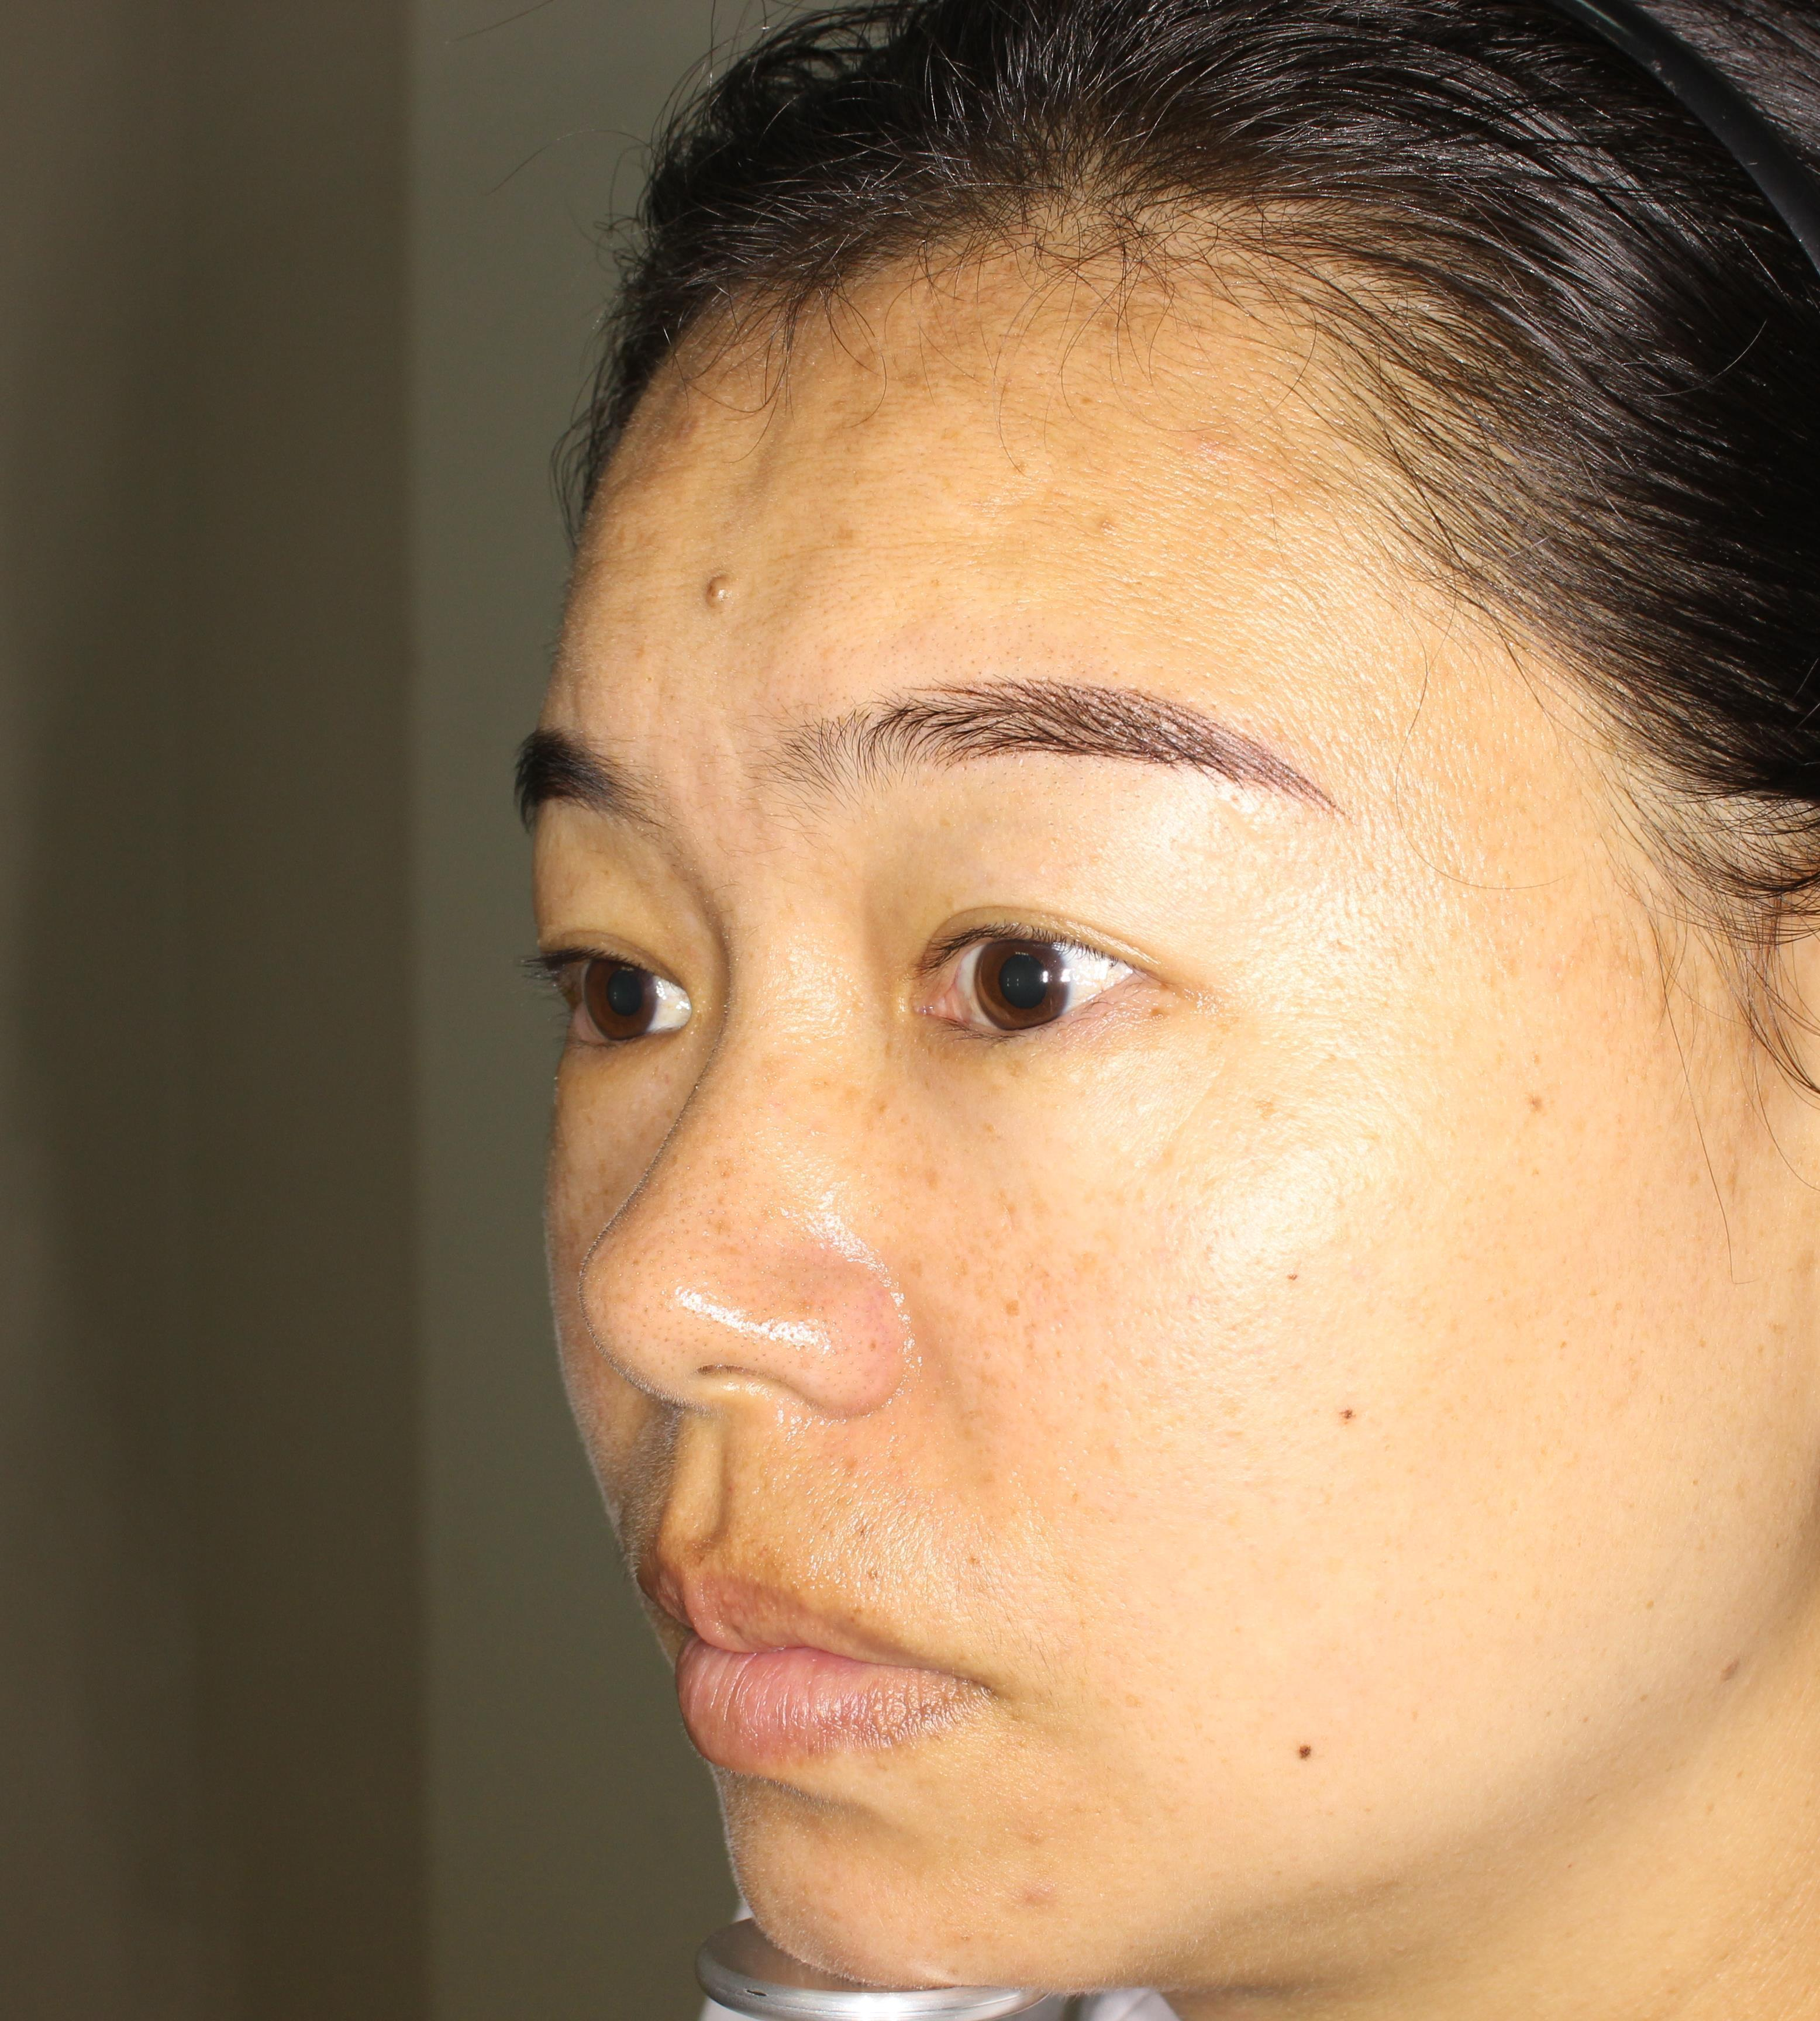fore: (1001, 1863, 1082, 1926)
